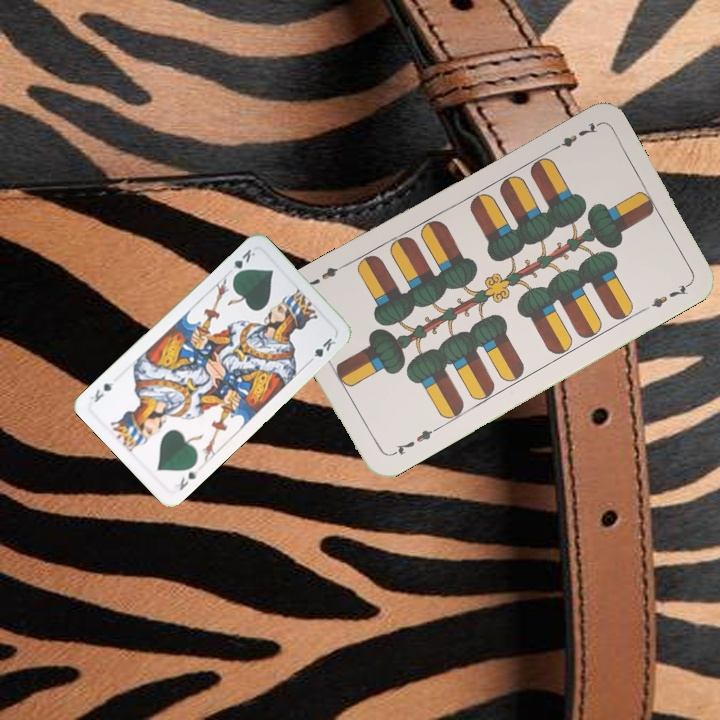E7: (546, 118, 601, 154), (387, 423, 441, 459)
GK: (229, 245, 258, 280), (175, 466, 201, 493)
